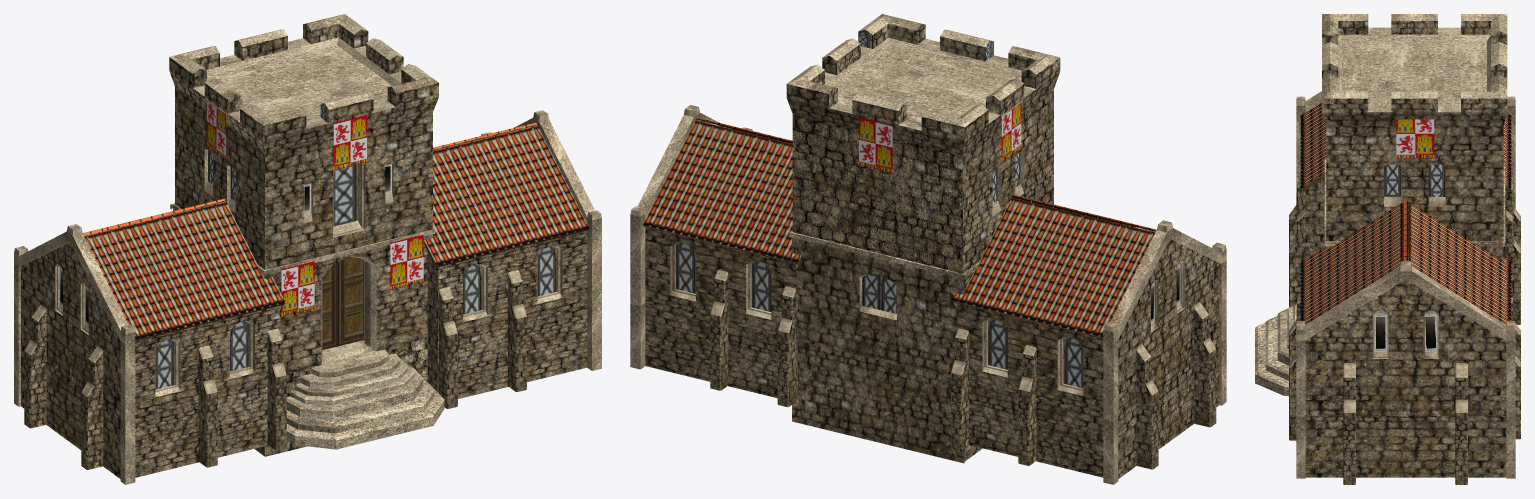
3 views of the same model, side by side, from view 1: azimuth 30°, elevation 25°; view 2: azimuth 150°, elevation 25°; view 3: azimuth 270°, elevation 25° (orthographic). The views are drawn at different scales.
Parts seen in each view (by area): view 1: cc; view 2: cc; view 3: cc.
Part boxes in pixels (x1=…): cc: x1=14, y1=14, x2=601, y2=484; cc: x1=630, y1=14, x2=1226, y2=484; cc: x1=1255, y1=14, x2=1520, y2=484.
Size of the model in its own units: 47.25 by 21.85 by 30.12.
